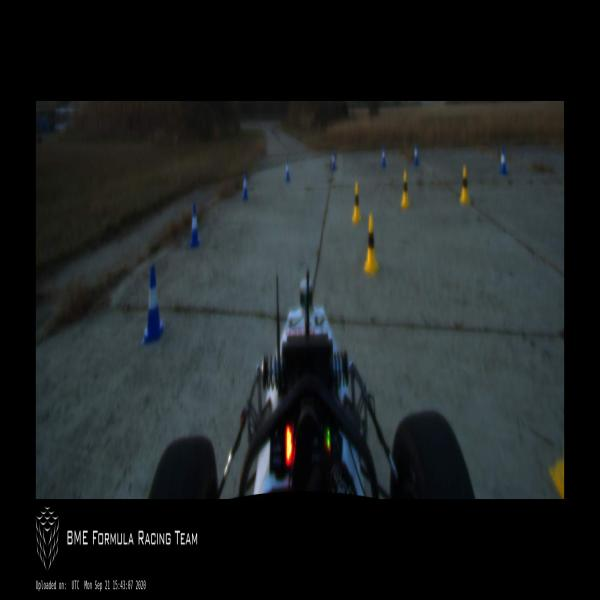blue_cone: (142, 266, 165, 344), (189, 205, 200, 248), (500, 146, 508, 174), (242, 172, 248, 200), (381, 144, 386, 168), (285, 158, 290, 181), (331, 150, 336, 170), (414, 142, 418, 164)
yellow_cone: (364, 216, 378, 273), (460, 164, 470, 205), (400, 170, 410, 209), (352, 183, 361, 221)
